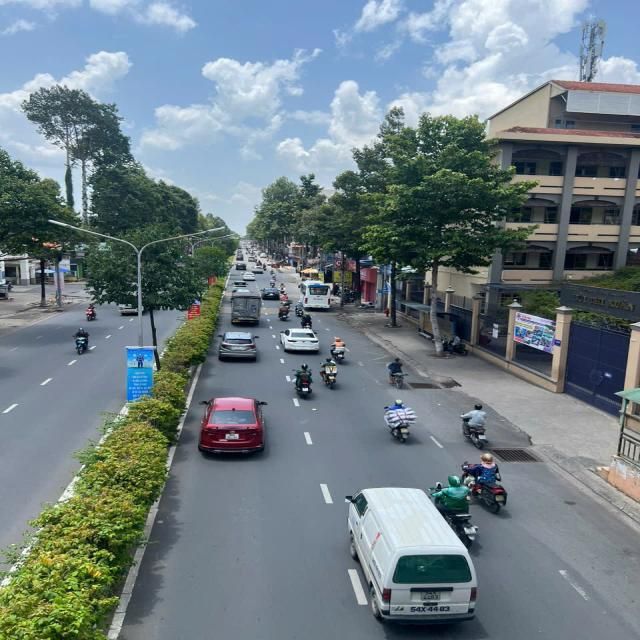ben: (227, 290, 264, 328)
car: (342, 483, 486, 622), (197, 390, 270, 462), (218, 327, 260, 364), (278, 325, 324, 355), (262, 283, 282, 301), (240, 267, 258, 284)
motobyte: (430, 477, 486, 549), (461, 451, 516, 517), (461, 400, 493, 448), (385, 395, 415, 445), (292, 361, 316, 400), (69, 325, 92, 357), (320, 354, 338, 388), (333, 332, 350, 366), (84, 299, 99, 323), (276, 302, 293, 321), (300, 314, 316, 334)
